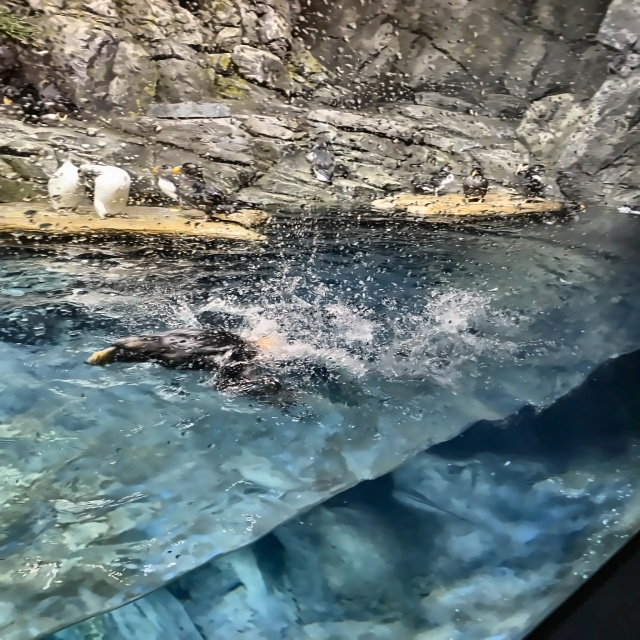puffin: (83, 323, 286, 402), (170, 161, 258, 222), (80, 163, 131, 218), (48, 159, 88, 213), (511, 162, 552, 205), (39, 77, 81, 118), (305, 141, 342, 185), (4, 86, 45, 124), (413, 163, 457, 198), (528, 202, 585, 225), (151, 164, 180, 209), (460, 166, 486, 205)
